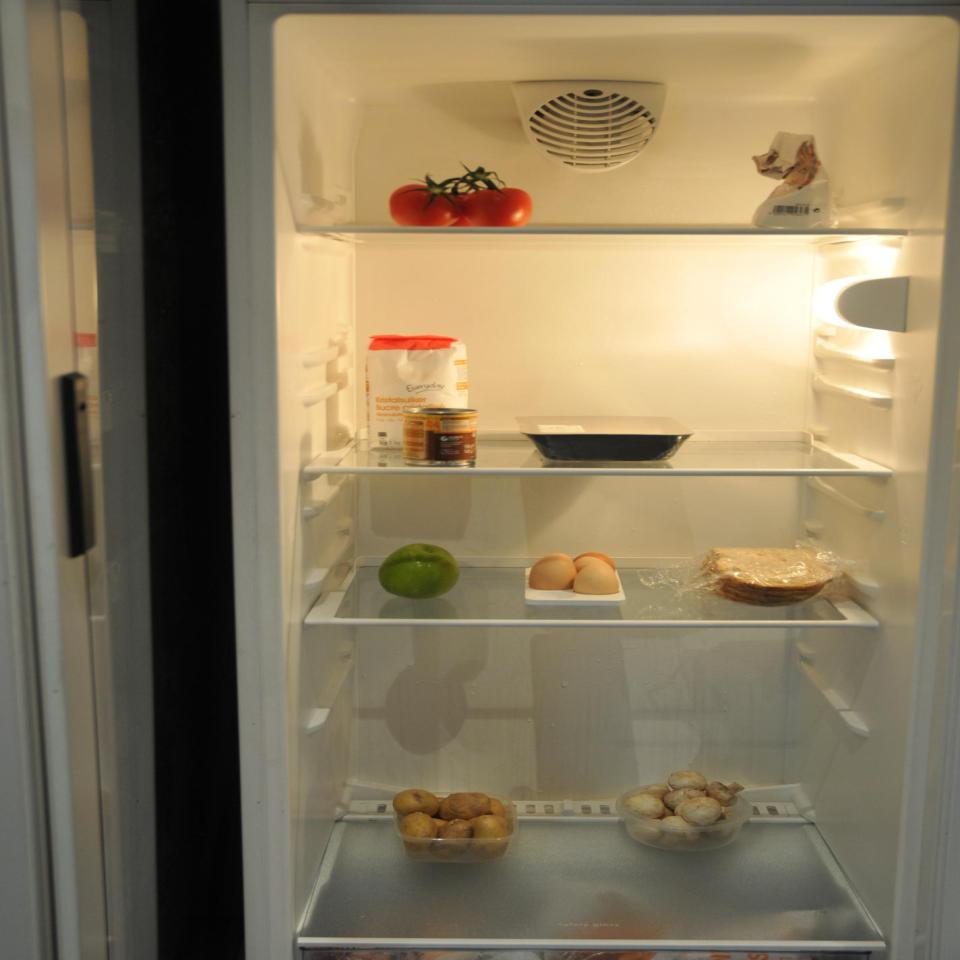Huevos: (528, 546, 630, 600)
Manzana: (371, 539, 466, 601)
Tomate: (392, 179, 542, 228)
